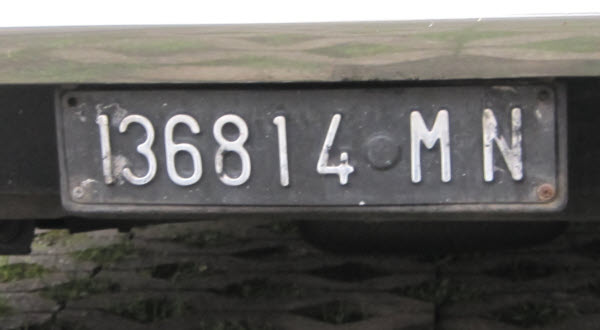license_plate: (56, 85, 561, 206)
